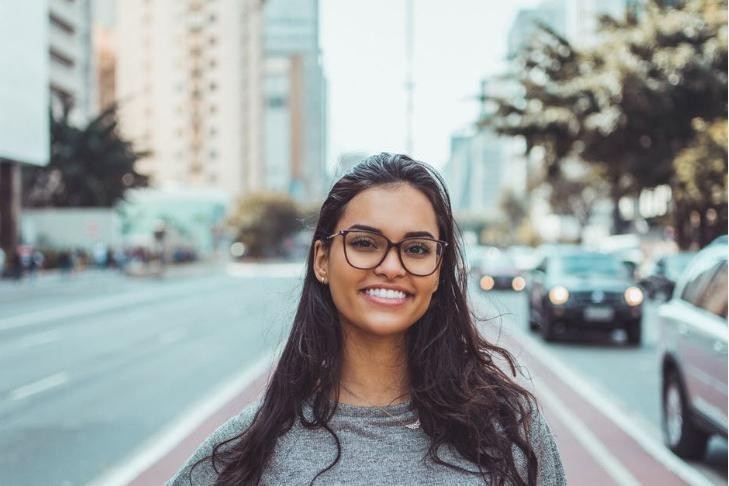face: (327, 183, 439, 335)
